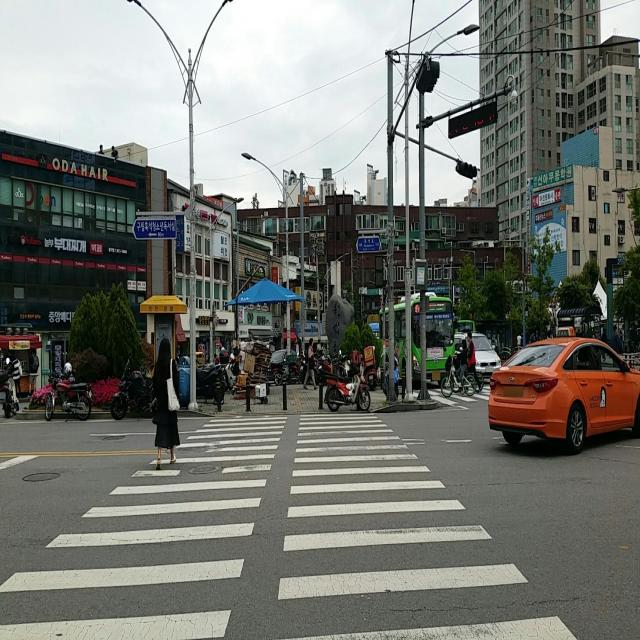횡단보도: (0, 406, 582, 640), (410, 383, 500, 407)
